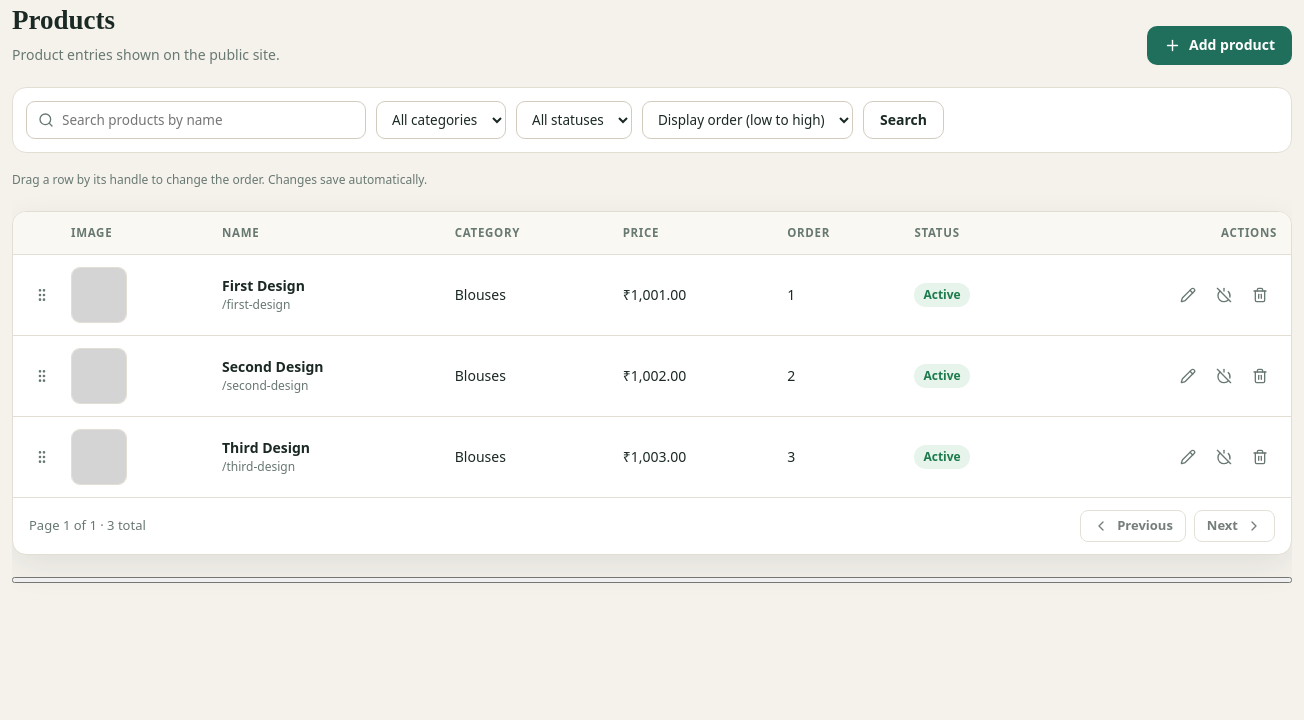
Scenario: catalogue drag and drop › saves a reorder and keeps the new order on screen
This screenshot has width=1304, height=720.
Expected: the text "First Design" is shown, [222,276,305,295]
Click the button with test id "simulate-drop". click: {"x": 652, "y": 580}
box: [12,576,1292,582]
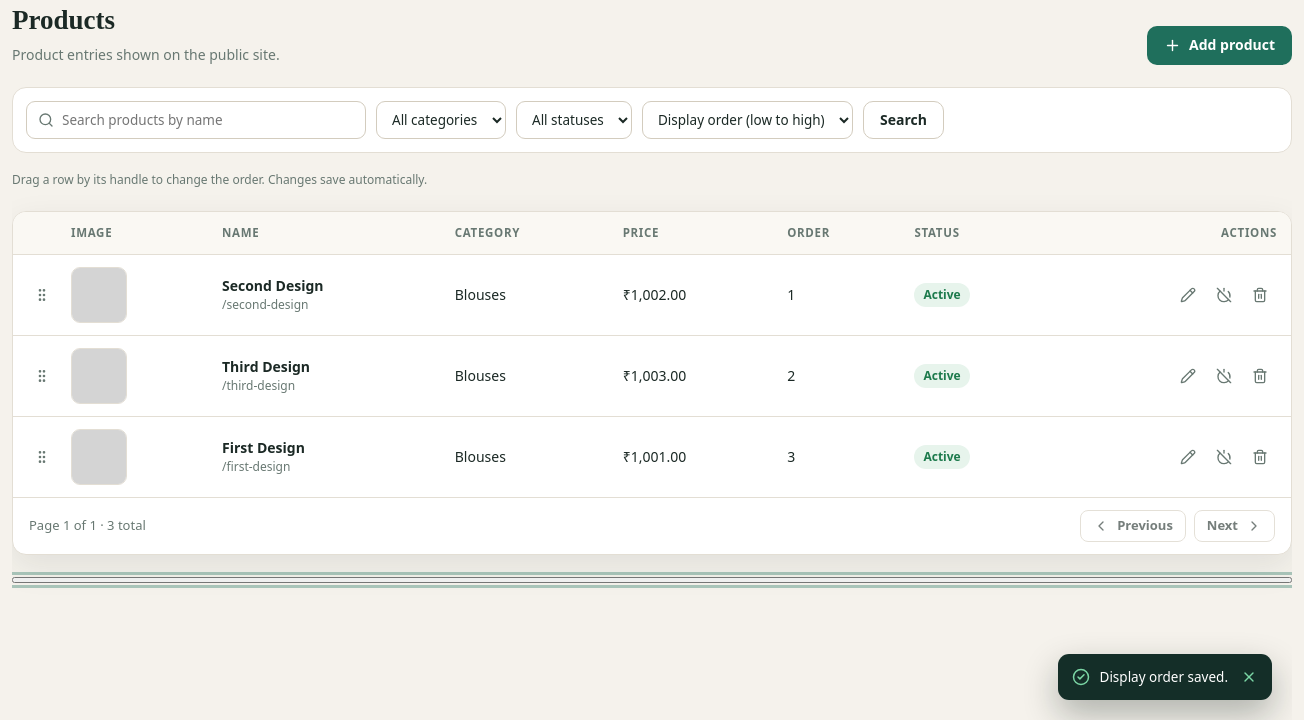
Expected: the text "Display order saved." is shown, [1100,667,1228,687]
